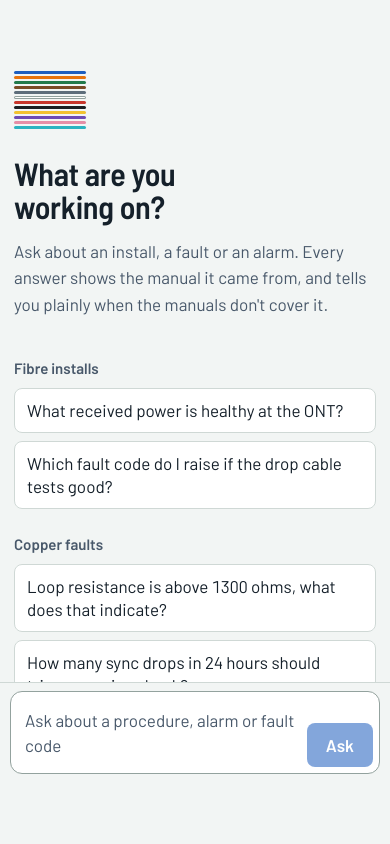
Test: ChatPage › highlights the source when its citation is selected
Step 1. Type "What is healthy power?" into the text box named "Your question" → (162, 732), box [25, 698, 299, 767]
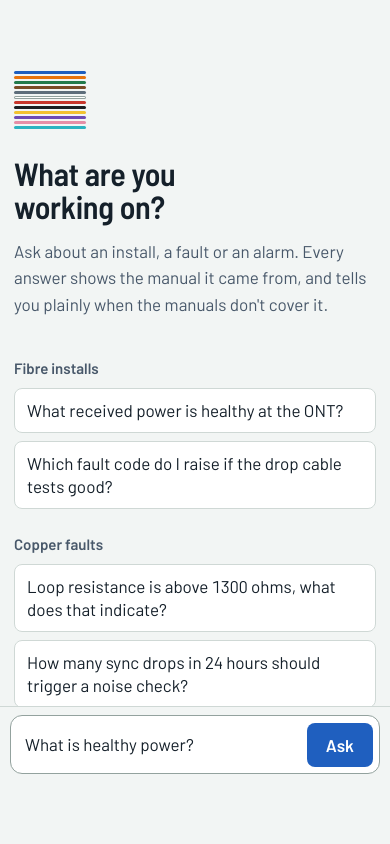
Step 2. Click the button "Ask" → (340, 745), box [307, 723, 373, 767]
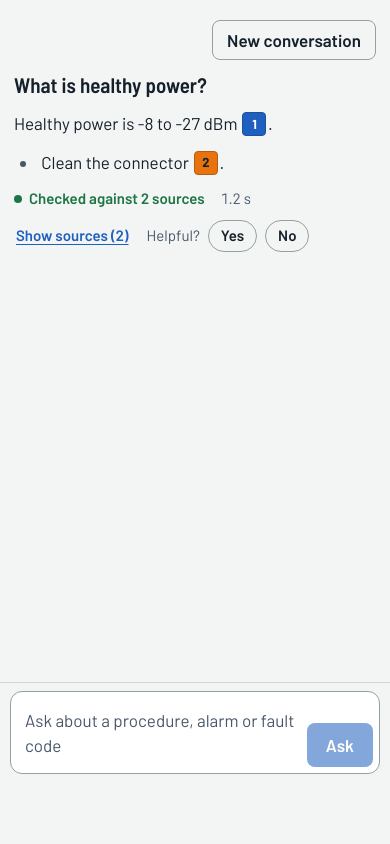
Step 3. Click the button named "Source 2:" → (206, 162), box [194, 150, 218, 174]
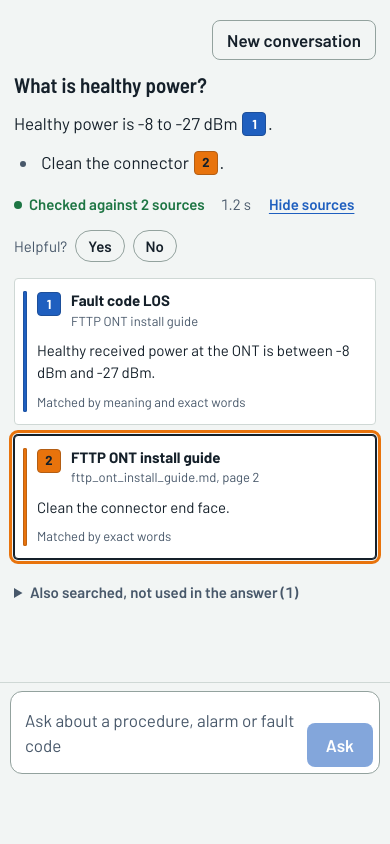
Expected: the element that starts with "FTTP ONT install guide" is shown, [14, 435, 376, 559]
Expected: the element that starts with "FTTP ONT install guide" shows "Clean the connector end face.", [37, 498, 230, 516]
